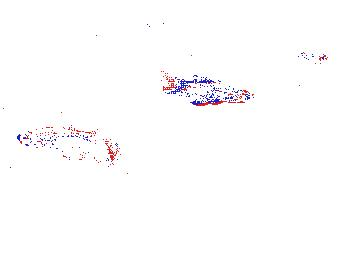X-ray fish: (127, 5, 159, 43), (102, 138, 117, 171)
red belly glassfish: (149, 10, 174, 32), (301, 47, 327, 68)
redtail glassfish: (166, 73, 253, 107), (16, 120, 102, 152), (221, 72, 298, 105), (289, 73, 344, 102)
